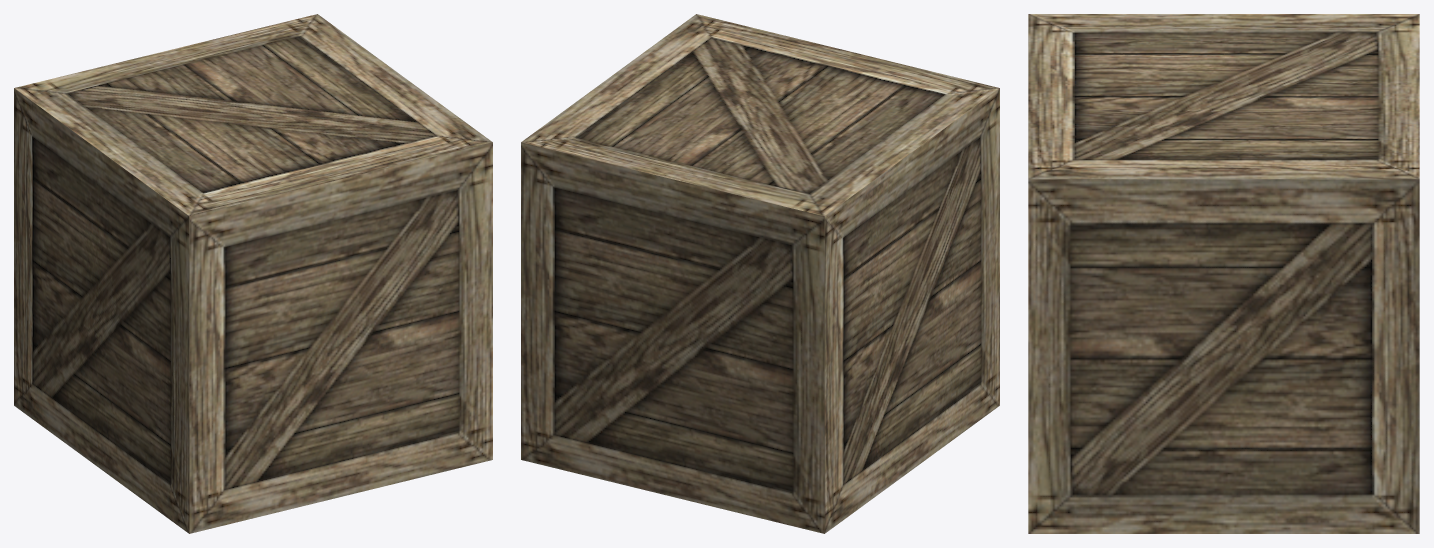
File: BreakBox.fbx
3 views of the same model, side by side, from view 1: azimuth 30°, elevation 25°; view 2: azimuth 150°, elevation 25°; view 3: azimuth 270°, elevation 25° (orthographic). The views are drawn at different scales.
Visible parts, largest first — view 1: Cube, Cube_cell.005, Cube_cell.003; view 2: Cube, Cube_cell.003, Cube_cell.005; view 3: Cube, Cube_cell.004, Cube_cell, Cube_cell.003, Cube_cell.001.
Boxes of the visible parts, left/top/right/bottom form: Cube: left=14, top=14, right=492, bottom=533; Cube_cell.005: left=102, top=143, right=491, bottom=374; Cube_cell.003: left=14, top=51, right=252, bottom=257; Cube: left=521, top=14, right=999, bottom=533; Cube_cell.003: left=673, top=115, right=911, bottom=533; Cube_cell.005: left=912, top=108, right=974, bottom=271; Cube: left=1028, top=14, right=1419, bottom=533; Cube_cell.004: left=1028, top=181, right=1223, bottom=533; Cube_cell: left=1224, top=357, right=1419, bottom=533; Cube_cell.003: left=1224, top=14, right=1419, bottom=96; Cube_cell.001: left=1031, top=96, right=1419, bottom=355.
Size of the model in its own units: 200 by 200 by 200.
Materials: 1 (1 with a texture image).
